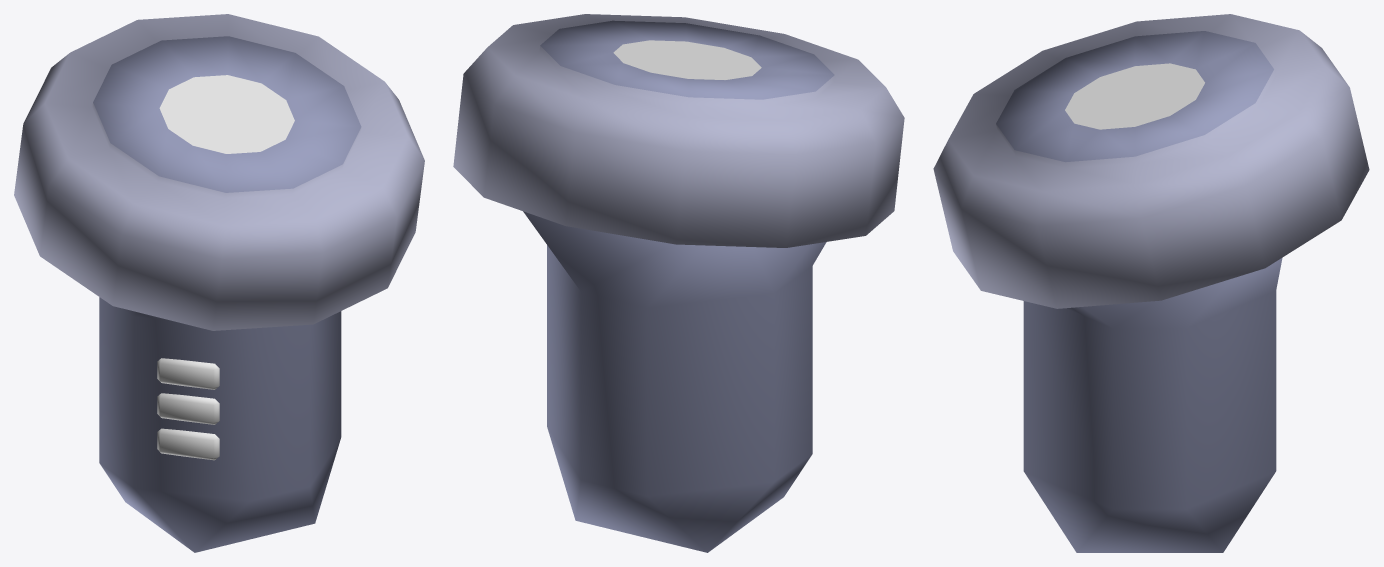
The model's file is Jetpack-Controller-0.1.0.fbx.
3 views of the same model, side by side, from view 1: azimuth 30°, elevation 25°; view 2: azimuth 150°, elevation 25°; view 3: azimuth 270°, elevation 25° (orthographic). The views are drawn at different scales.
Parts seen in each view (by area): view 1: Jetpack-Controller; view 2: Jetpack-Controller; view 3: Jetpack-Controller.
Part boxes in pixels (x1,y1,x2,y2): Jetpack-Controller: [14, 14, 424, 552]; Jetpack-Controller: [453, 14, 904, 552]; Jetpack-Controller: [933, 14, 1369, 552].
Size of the model in its own units: 0.0867 by 0.1024 by 0.0887.
